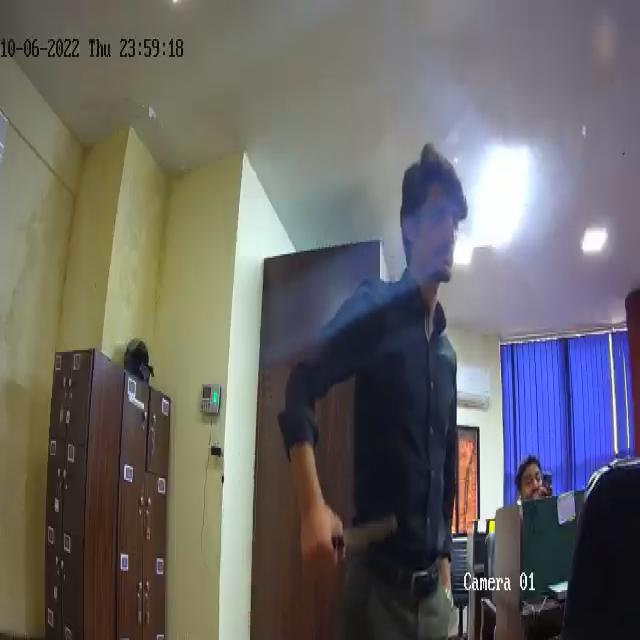Knife: (311, 518, 397, 558)
